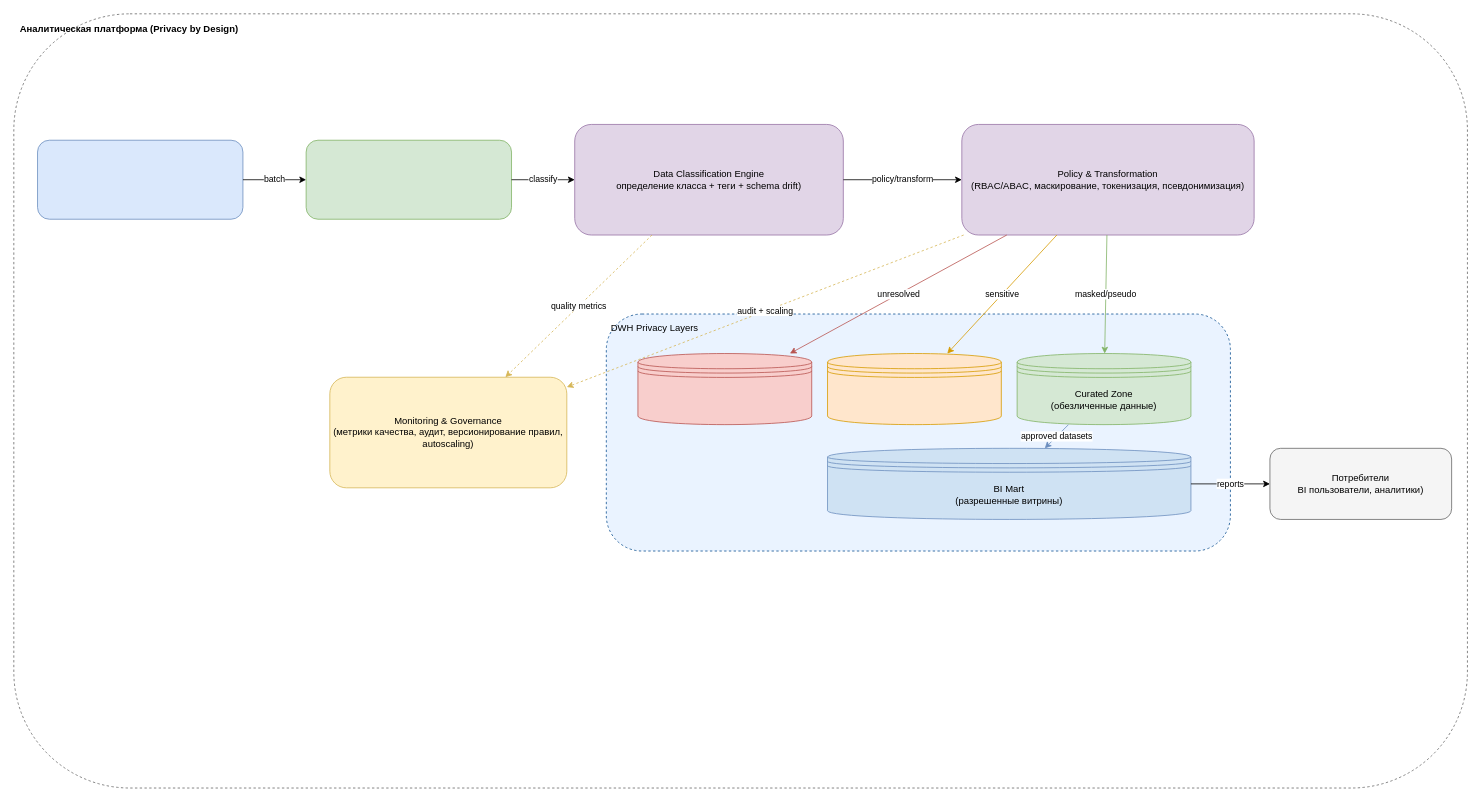
Image size: 1481x802. Some labels were removed from this diagram. Each missing label, with the centre of its shape:
Ingestion + Raw Landing: the point at 408,179
Quarantine (сомнительные/неразмеченные поля): the point at 724,389
Sensitive Zone (конфиденциальные данные): the point at 914,389
Источники данных\ MVP, 1С/ККМ, файлы, логи): the point at 140,179
